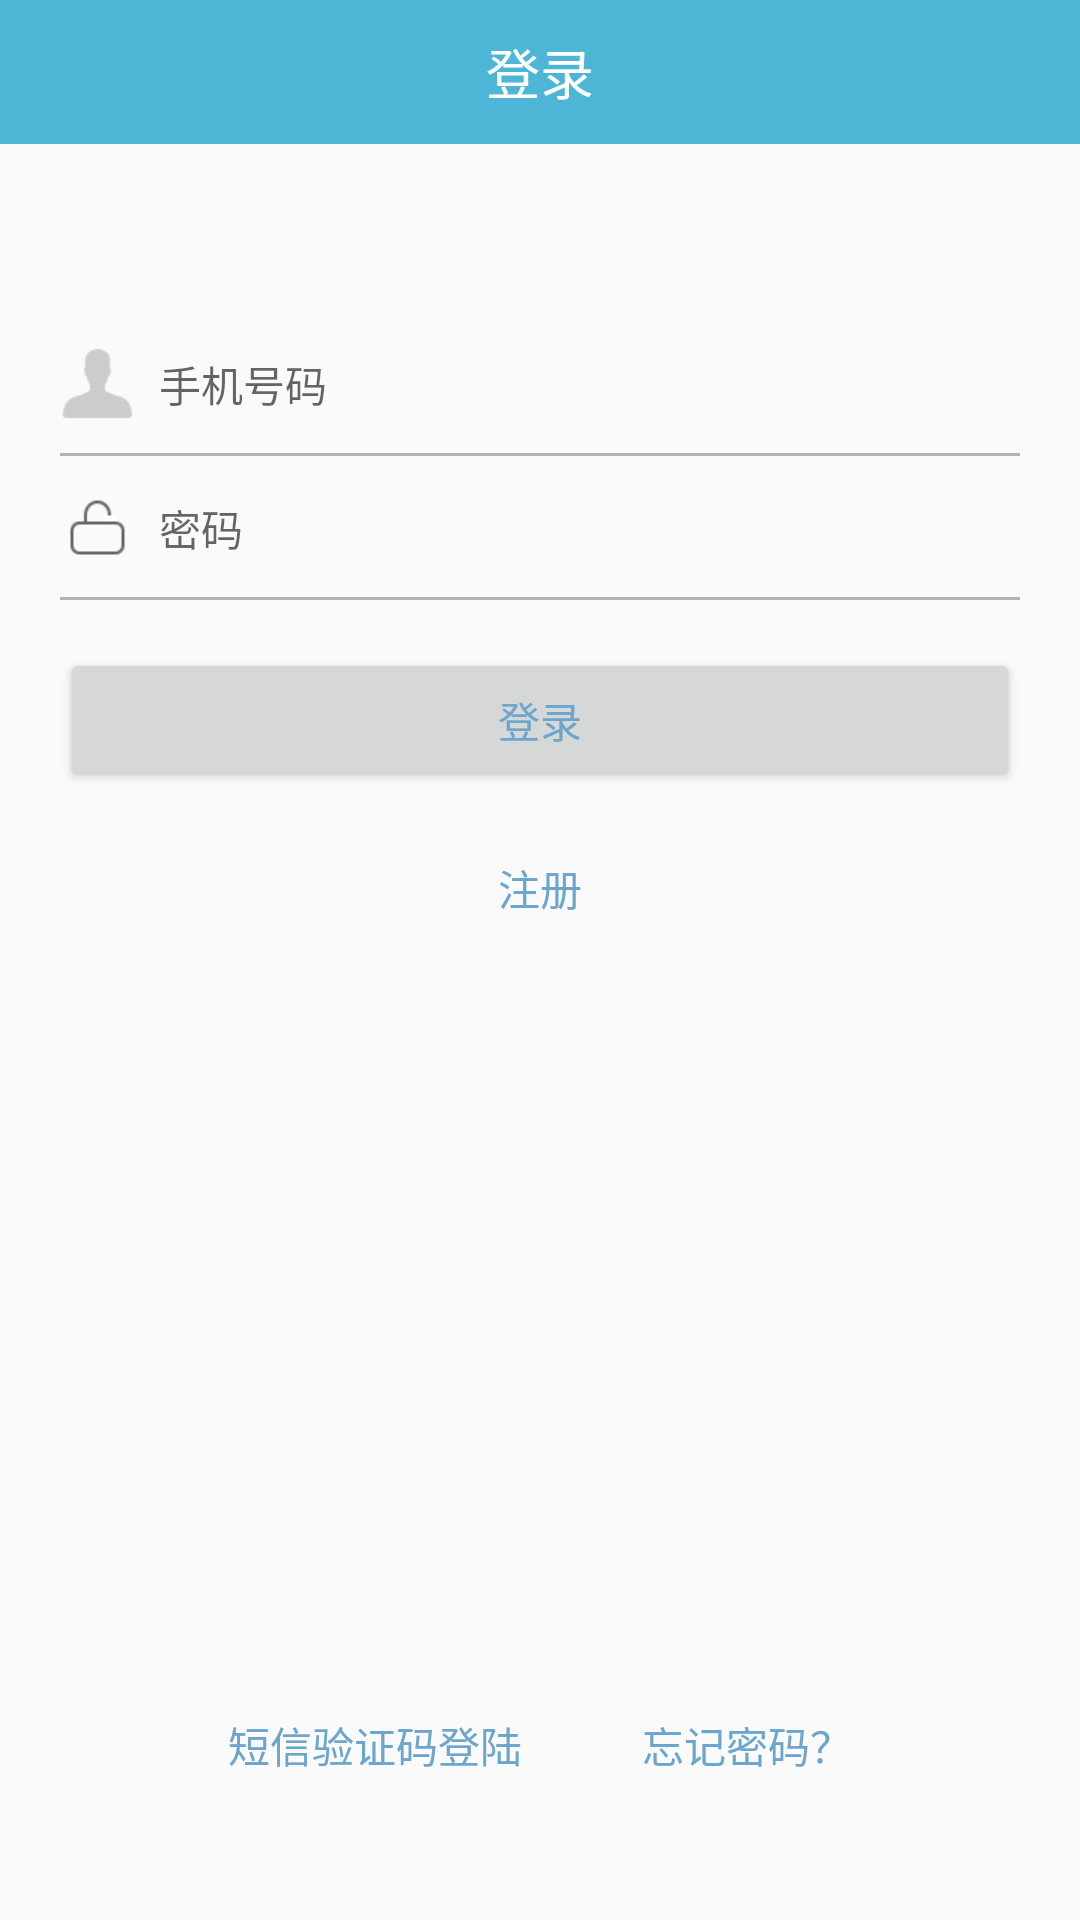

Locate icon controls on the screen. Image size 1080w x 1920h, boxes as (x1, y1, x2, y2).
register username: (63, 349, 132, 418)
